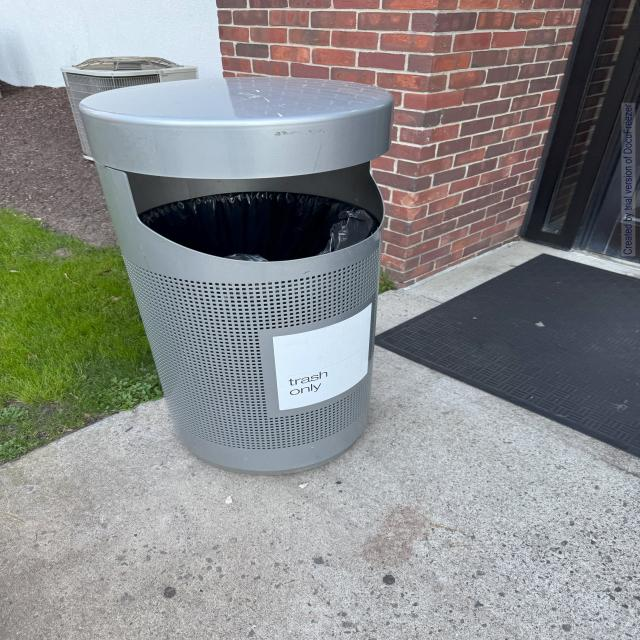Trash bin: (61, 66, 418, 526)
